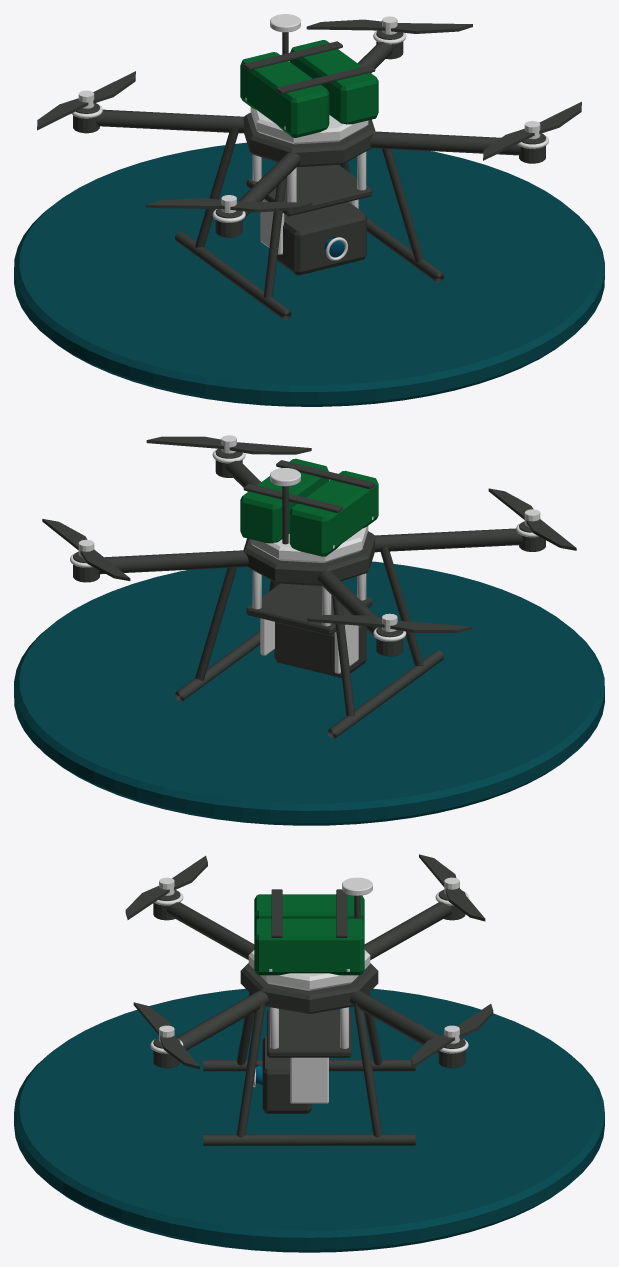
Rendered from freefly-alta-x.glb.
3 views of the same model, one above another, from view 1: azimuth 30°, elevation 25°; view 2: azimuth 150°, elevation 25°; view 3: azimuth 270°, elevation 25° (orthographic).
Visible parts, largest first — view 1: pedestal, body; view 2: pedestal, body; view 3: pedestal, body.
Boxes of the visible parts, x1,y1,x2,y2 form: pedestal: (14,142,604,406); body: (37,14,581,319); pedestal: (14,561,604,825); body: (42,435,576,738); pedestal: (14,988,604,1252); body: (125,854,493,1145).
Size of the model in its own units: 4.4 by 2.02 by 4.4.
